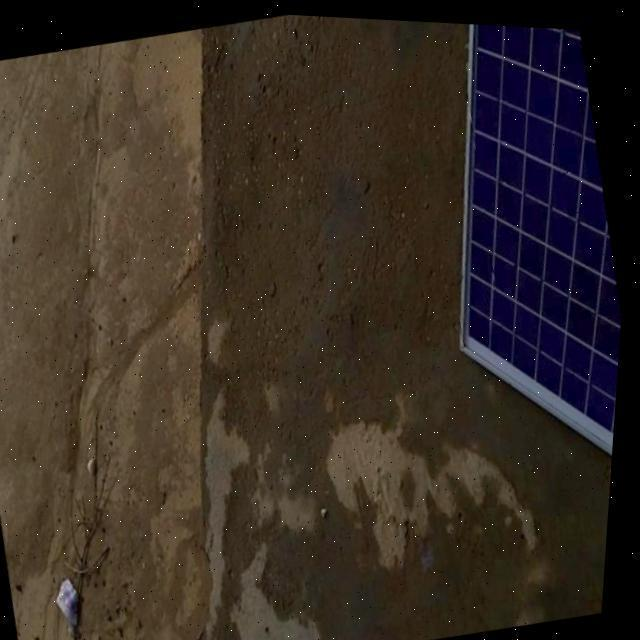Normal Solar Panel: (385, 17, 640, 499)
